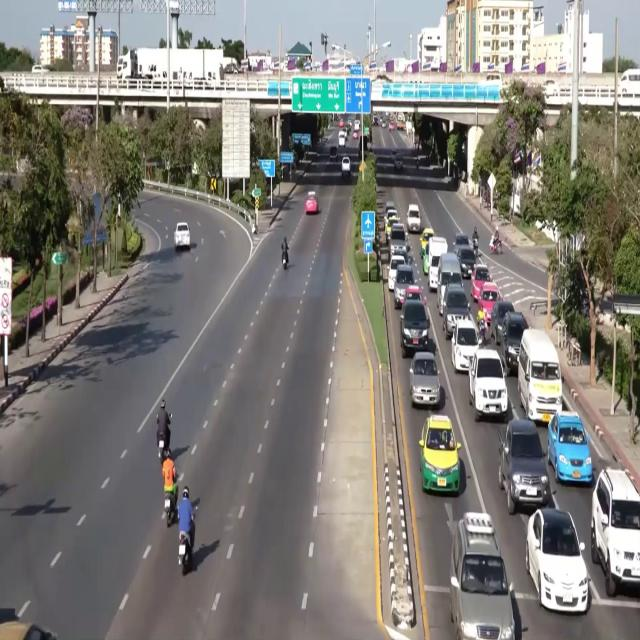car: (450, 512, 515, 639), (526, 508, 588, 612), (591, 469, 639, 597), (499, 419, 551, 514), (548, 411, 592, 484), (419, 416, 460, 494), (469, 348, 507, 421), (497, 312, 528, 375), (410, 352, 441, 407), (400, 301, 429, 358), (442, 283, 469, 339), (452, 318, 479, 372), (0, 620, 56, 639), (491, 300, 514, 344), (478, 281, 500, 325), (394, 264, 414, 309), (471, 265, 491, 301), (388, 255, 405, 291), (456, 247, 475, 279), (389, 224, 408, 255), (403, 285, 426, 305), (174, 223, 190, 250), (385, 209, 399, 239), (407, 204, 421, 232), (421, 228, 434, 255), (453, 233, 471, 251), (305, 192, 318, 214), (394, 249, 412, 264), (384, 200, 396, 217), (341, 157, 351, 177), (31, 64, 49, 74), (394, 155, 403, 171), (338, 131, 346, 148), (330, 146, 338, 161), (372, 116, 378, 126), (354, 120, 360, 130), (391, 150, 397, 160), (352, 130, 358, 139), (339, 119, 344, 128), (389, 122, 394, 130), (381, 120, 386, 128), (348, 120, 352, 127)
truck: (117, 48, 224, 81), (397, 113, 405, 130)
